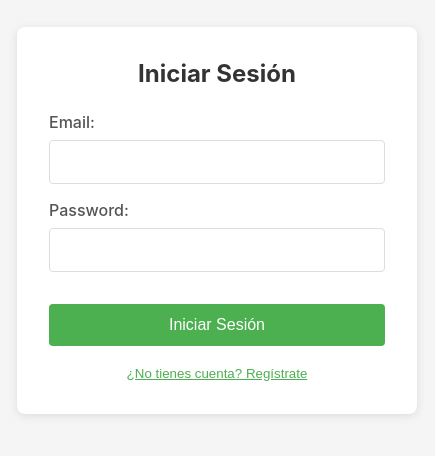
Scenario: Authentication Flow › debería mostrar error con credenciales inválidas
Step 1. Type "invalid@example.com" into the field with id "email" → x=217, y=162, box [49,140,385,184]
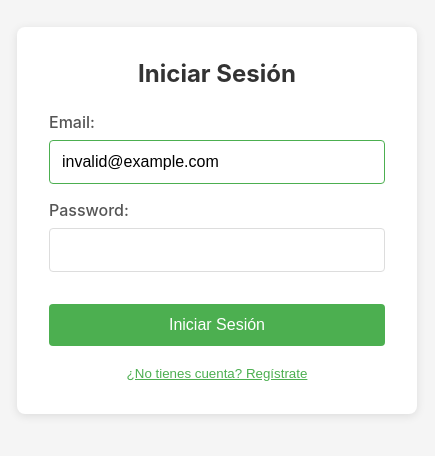
Step 2. Type "wrongpass" into the password field labelled "Password:" → x=217, y=250, box [49,228,385,272]
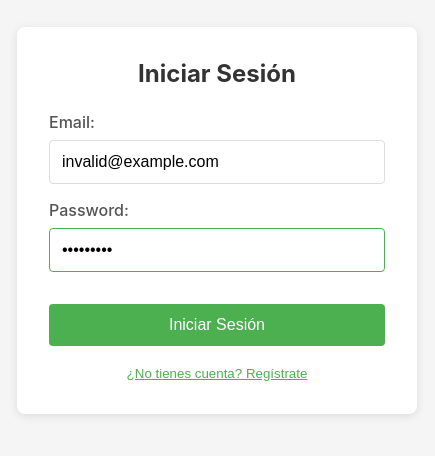
Step 3. Click the submit button → x=217, y=325, box [49,304,385,346]
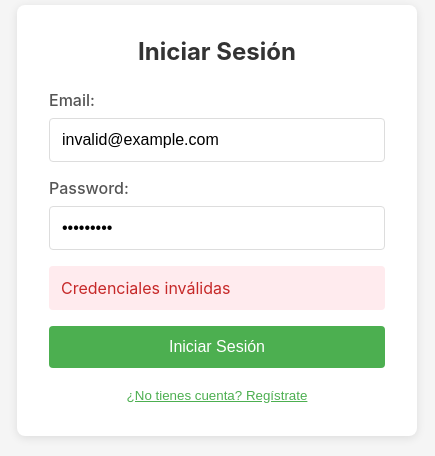
Now the text "Credenciales inválidas" is shown, box [49,266,385,310]
Now the text with class "error-message" reads "Credenciales inválidas", box [61,278,230,298]
